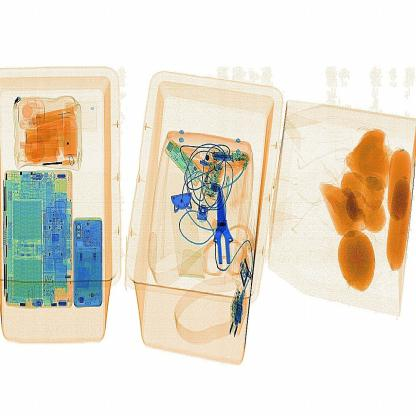gun: (206, 188, 249, 281)
